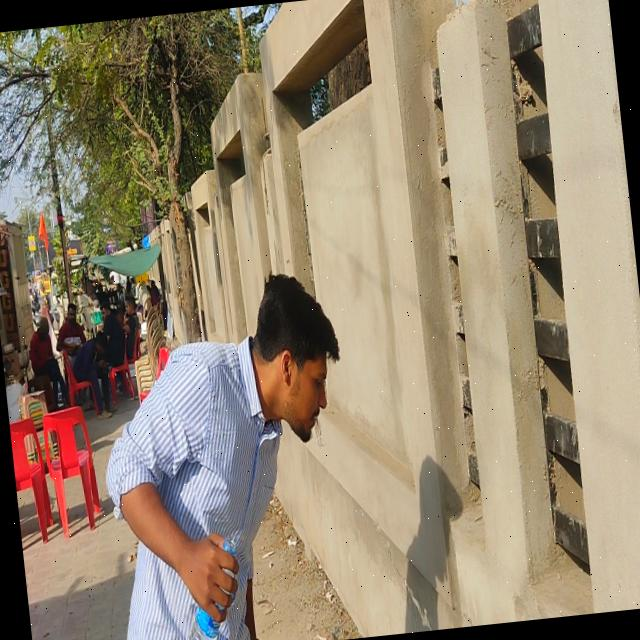spit: (257, 281, 337, 458)
